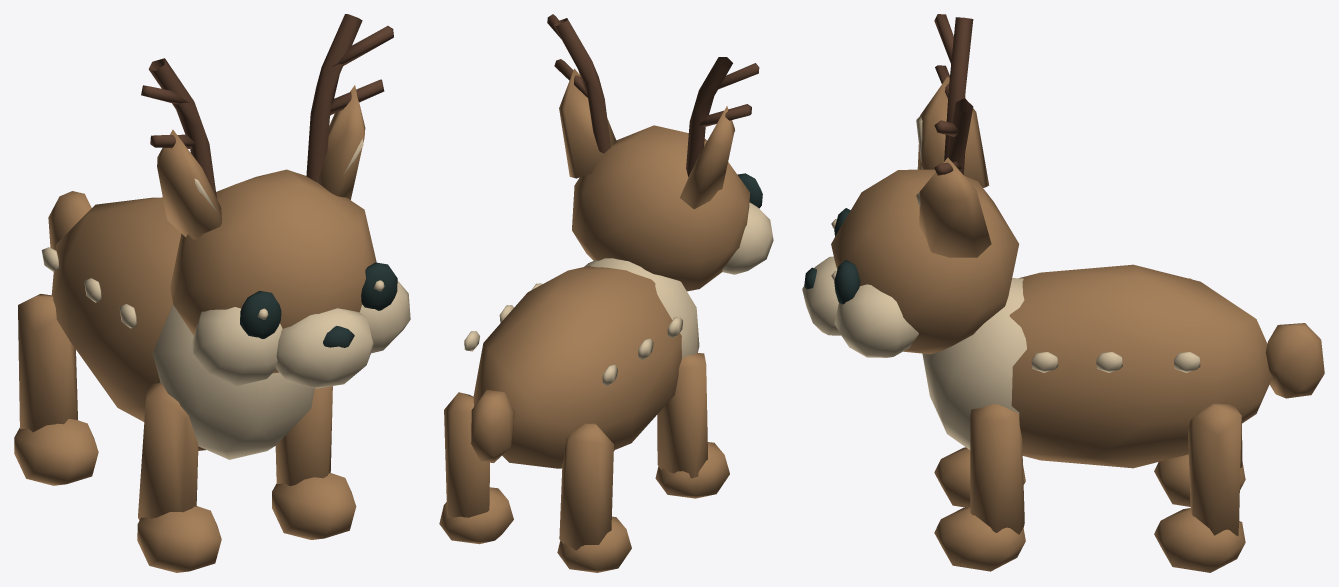
File: org_deer.glb
3 renders of one model, left to right at view 1: azimuth 30°, elevation 25°; view 2: azimuth 150°, elevation 25°; view 3: azimuth 270°, elevation 25°, orthographic. The views are drawn at different scales.
Visible parts, largest first — view 1: Head, Body, Leg_BR, Leg_FR, Leg_FL, Eye_R, Tail, Eye_L; view 2: Body, Head, Leg_BR, Leg_FR, Leg_BL, Tail, Eye_R; view 3: Body, Head, Leg_FL, Leg_BL, Tail, Leg_FR, Leg_BR, Eye_L.
Part boxes in pixels (left/top/right/bottom): Head: left=141, top=14, right=410, bottom=388; Body: left=41, top=197, right=314, bottom=459; Leg_BR: left=14, top=294, right=98, bottom=485; Leg_FR: left=137, top=383, right=221, bottom=572; Leg_FL: left=272, top=386, right=356, bottom=539; Eye_R: left=240, top=291, right=281, bottom=338; Tail: left=48, top=191, right=91, bottom=250; Eye_L: left=361, top=262, right=397, bottom=310; Body: left=464, top=258, right=699, bottom=468; Head: left=547, top=14, right=773, bottom=291; Leg_BR: left=557, top=423, right=631, bottom=572; Leg_FR: left=655, top=352, right=729, bottom=498; Leg_BL: left=439, top=392, right=513, bottom=544; Tail: left=471, top=390, right=514, bottom=462; Eye_R: left=737, top=173, right=762, bottom=208; Body: left=922, top=264, right=1272, bottom=468; Head: left=802, top=14, right=1019, bottom=357; Leg_FL: left=934, top=404, right=1025, bottom=571; Leg_BL: left=1154, top=403, right=1245, bottom=572; Tail: left=1265, top=323, right=1324, bottom=398; Leg_FR: left=934, top=447, right=1025, bottom=507; Leg_BR: left=1154, top=424, right=1245, bottom=506; Eye_L: left=831, top=260, right=860, bottom=304.
Size of the model in its own units: 0.6561 by 1.31 by 1.29.
